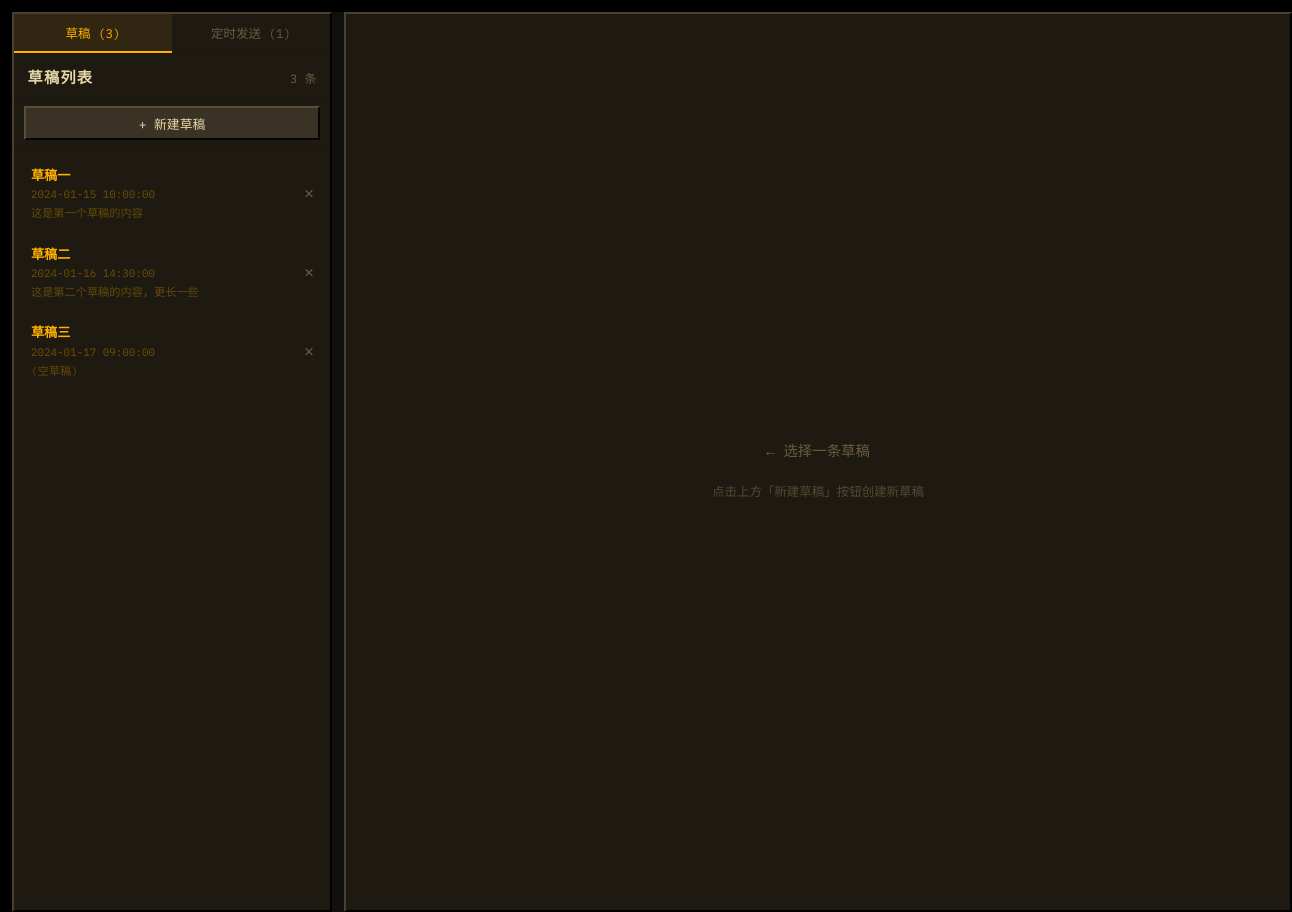
Test: DraftPage › 删除草稿 › 取消删除应该关闭对话框
Click the button named "删除草稿": [309, 192] box left=295, top=156, right=323, bottom=229
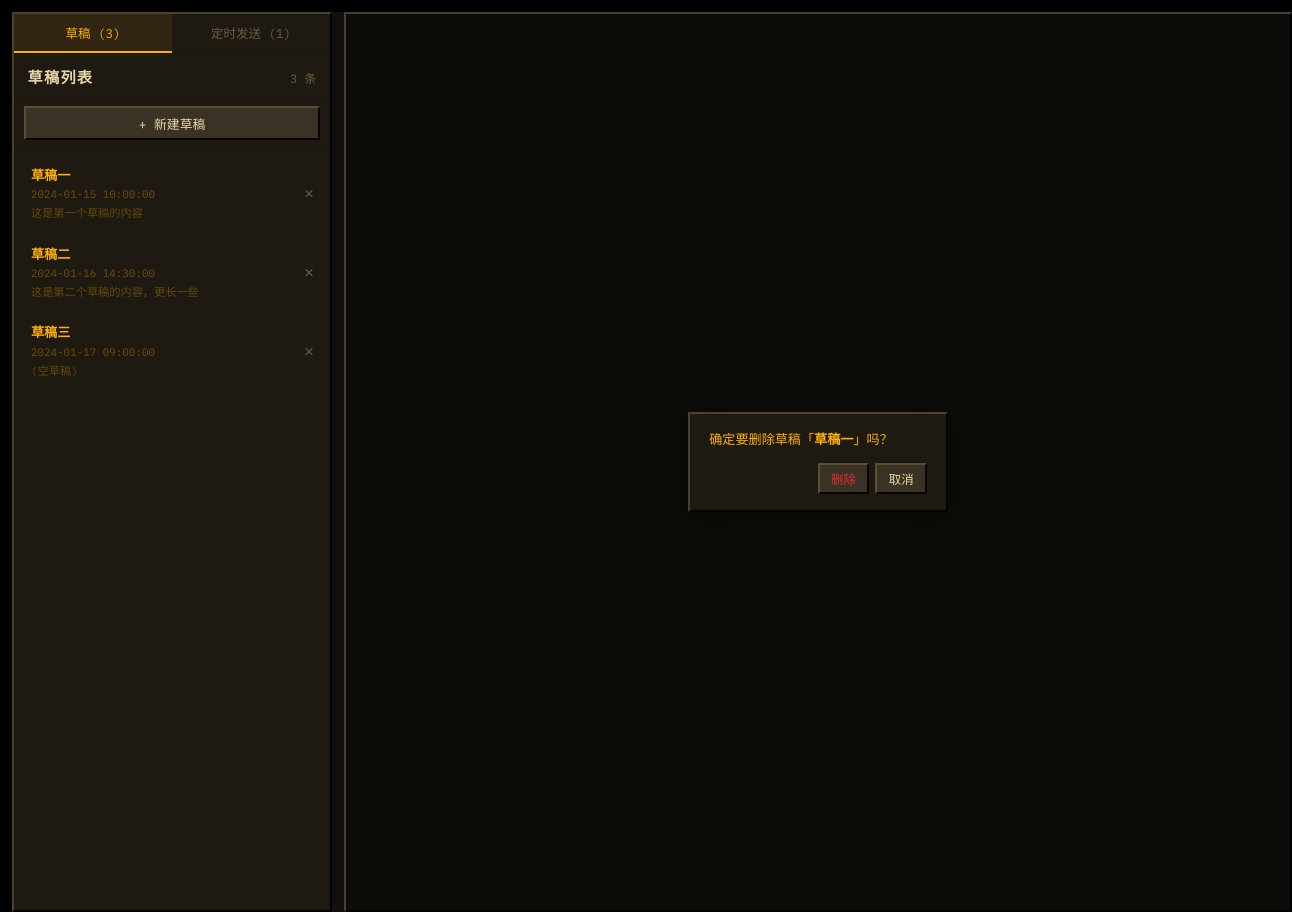
Click the button "取消": [901, 479] box left=876, top=463, right=927, bottom=494
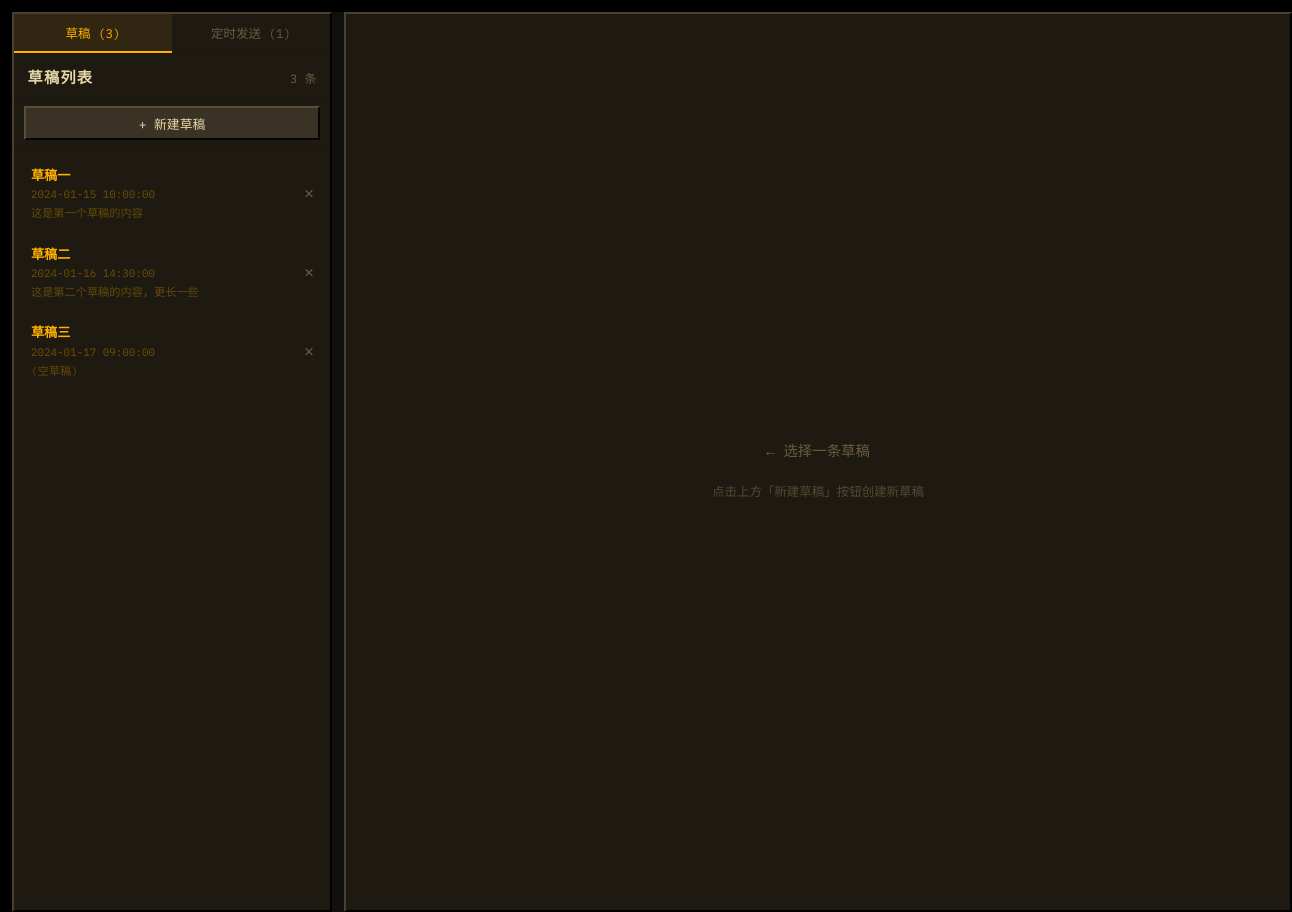
Expected: the text "确定要删除草稿" is gone
